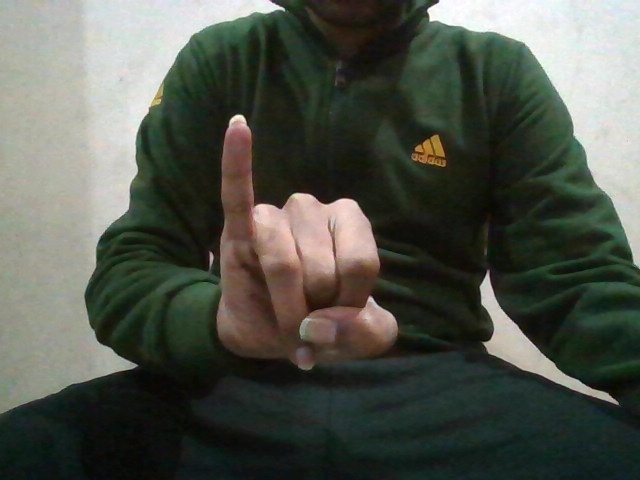I: (210, 112, 403, 377)
